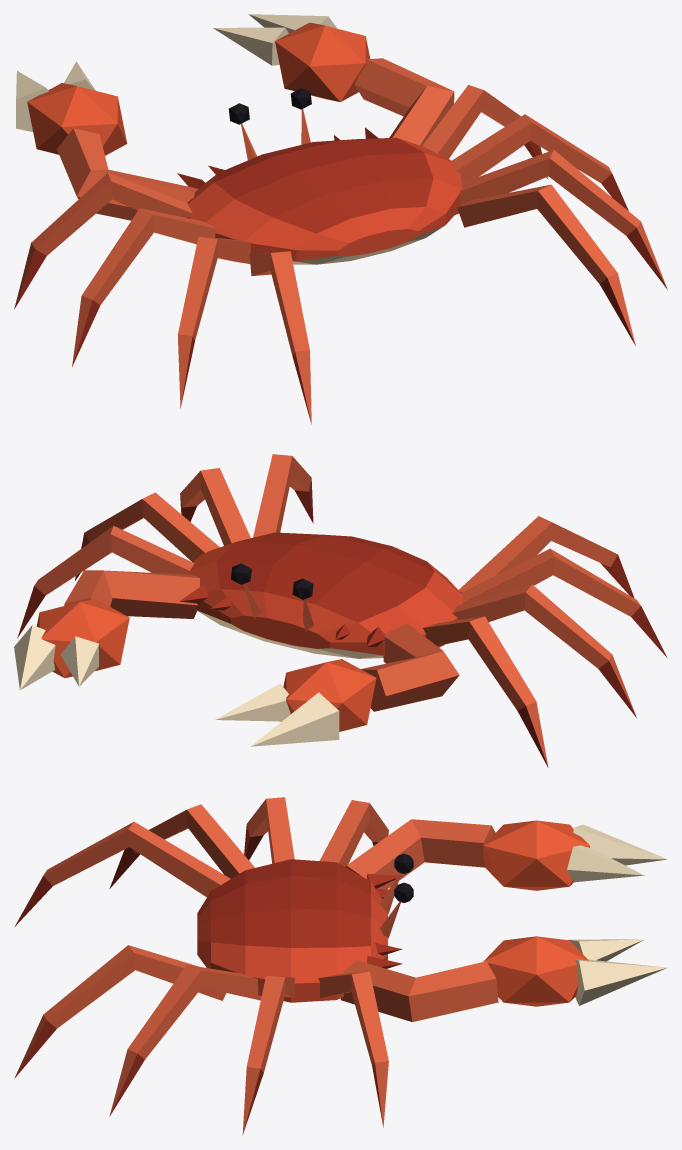
The model's file is mason-crab.glb.
The picture shows the model from 3 angles, top to bottom: view 1: azimuth 30°, elevation 25°; view 2: azimuth 150°, elevation 25°; view 3: azimuth 270°, elevation 25°; orthographic projection. The views are drawn at different scales.
Parts seen in each view (by area): view 1: mason_crab; view 2: mason_crab; view 3: mason_crab.
Boxes of the visible parts, bbox=[...] form: mason_crab: bbox=[14, 14, 667, 424]; mason_crab: bbox=[14, 454, 667, 767]; mason_crab: bbox=[14, 797, 667, 1134].
Size of the model in its own units: 4.27 by 1.02 by 4.47.
